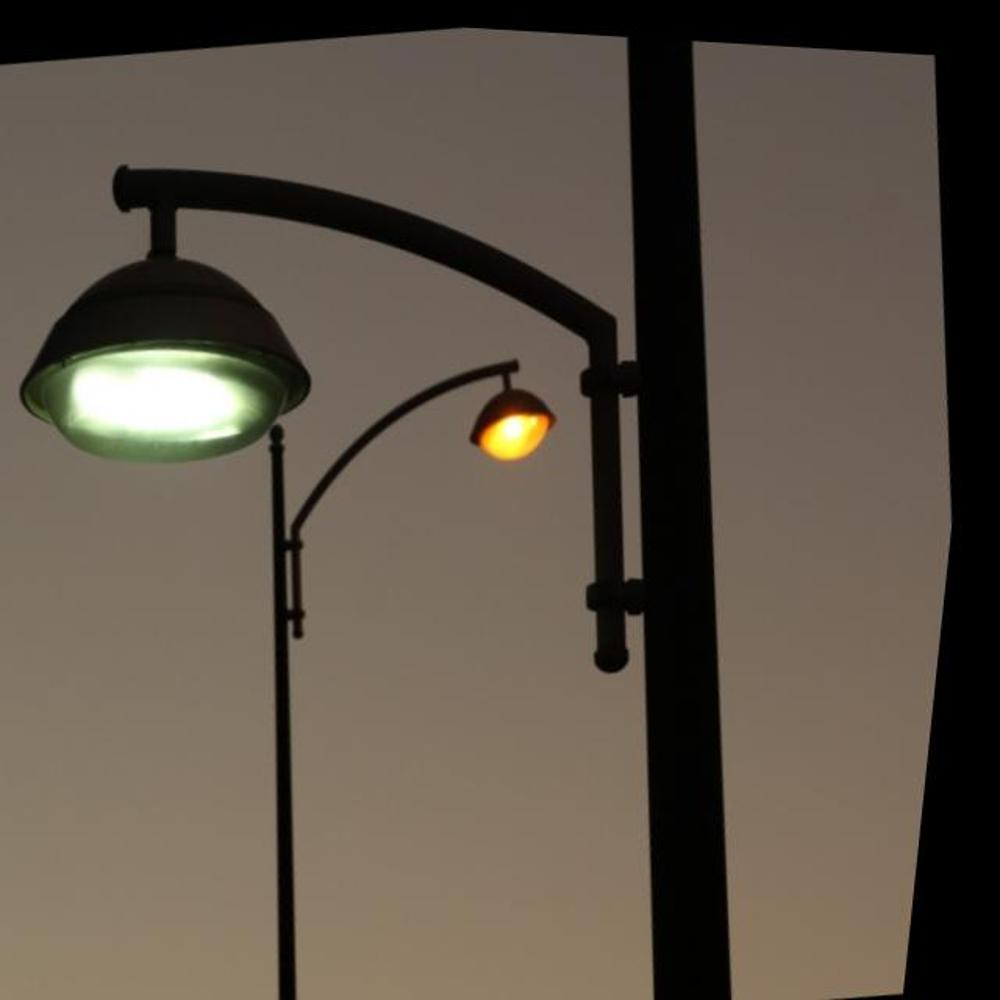shelf: (0, 50, 874, 1000), (192, 292, 660, 1000)
